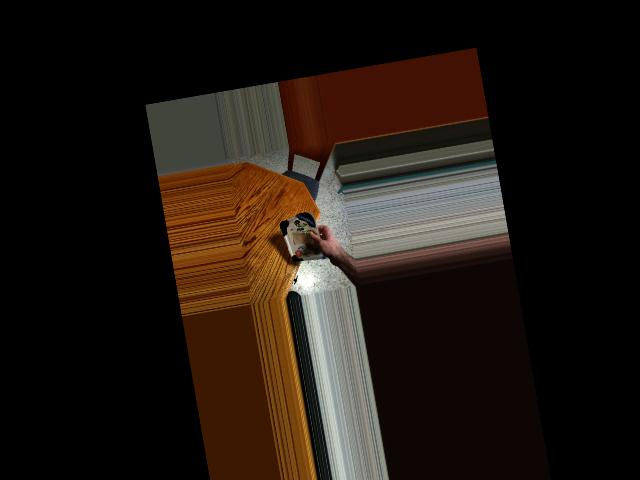cheese: (279, 208, 326, 275)
